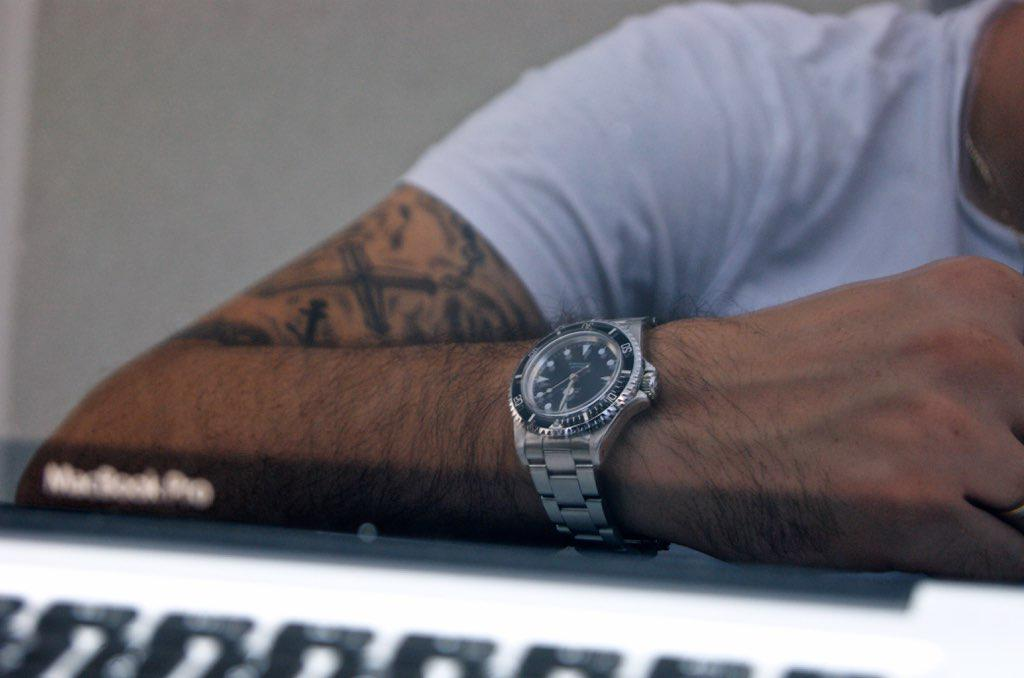watch: (501, 317, 666, 562)
